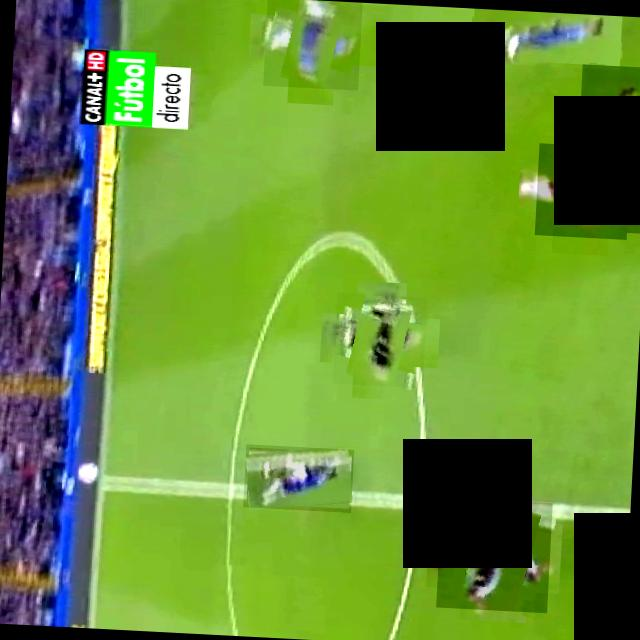referee: (332, 292, 428, 388)
soccer-player: (436, 497, 553, 612), (534, 142, 632, 239), (471, 8, 624, 70), (263, 0, 362, 90), (243, 443, 354, 512), (579, 63, 640, 138), (627, 201, 640, 233)
